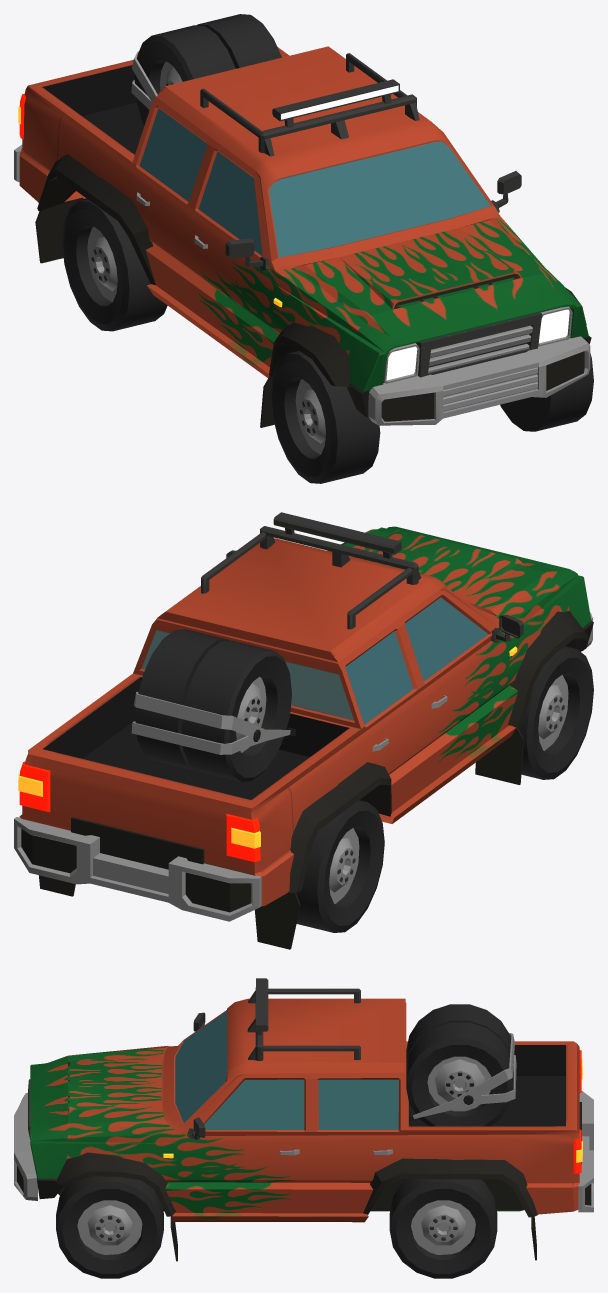
Rendered from BoneCrusherWithtyres.fbx.
The picture shows the model from 3 angles, top to bottom: view 1: azimuth 30°, elevation 25°; view 2: azimuth 150°, elevation 25°; view 3: azimuth 270°, elevation 25°; orthographic projection. The views are drawn at different scales.
Visible parts, largest first — view 1: BoneCrusher, BonecrusherWheel-FR, BonecrusherWheel-BR, BonecrusherWheel-FL; view 2: BoneCrusher, BonecrusherWheel-BR, BonecrusherWheel-FR; view 3: BoneCrusher, BonecrusherWheel-BL, BonecrusherWheel-FL.
Boxes of the visible parts, box(x1,y1,x2,y2) form: BoneCrusher: box(14, 14, 591, 427); BonecrusherWheel-FR: box(270, 350, 380, 483); BonecrusherWheel-BR: box(62, 199, 167, 331); BonecrusherWheel-FL: box(500, 353, 593, 431); BoneCrusher: box(14, 512, 593, 949); BonecrusherWheel-BR: box(296, 800, 384, 932); BonecrusherWheel-FR: box(517, 646, 593, 779); BoneCrusher: box(14, 978, 593, 1261); BonecrusherWheel-BL: box(389, 1179, 497, 1278); BonecrusherWheel-FL: box(56, 1176, 163, 1278).
Bounding box in the file's own units: 238 × 220 × 512.
